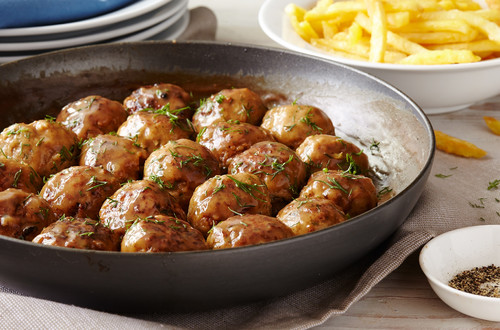meatballs: (1, 122, 74, 183), (143, 139, 213, 193), (236, 144, 304, 198), (106, 180, 178, 229), (191, 175, 267, 220), (124, 215, 208, 255), (43, 168, 114, 210), (79, 140, 136, 187), (263, 102, 327, 141), (210, 218, 290, 249), (42, 214, 110, 250), (308, 166, 370, 205), (1, 190, 51, 238), (200, 118, 266, 154), (59, 96, 120, 134), (273, 199, 342, 232), (203, 89, 259, 128), (301, 132, 360, 169), (119, 112, 183, 144), (127, 84, 190, 115)
